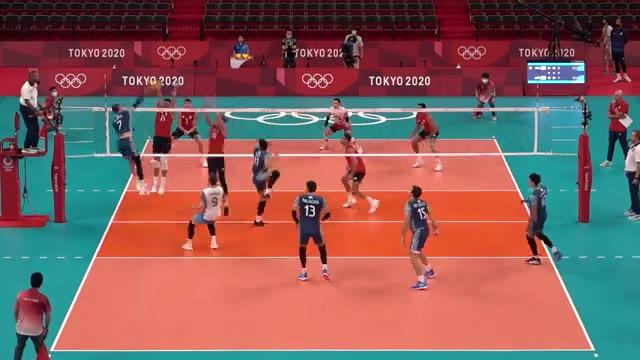ball: (146, 75, 163, 96)
